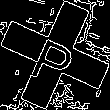P_NE: (28, 24, 82, 86)
